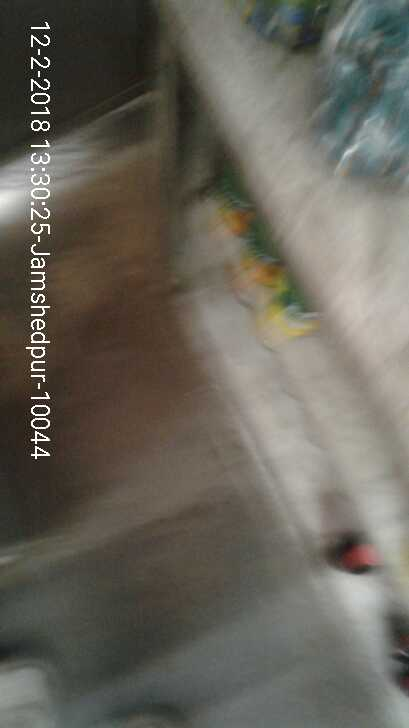reject: (82, 150, 233, 309)
